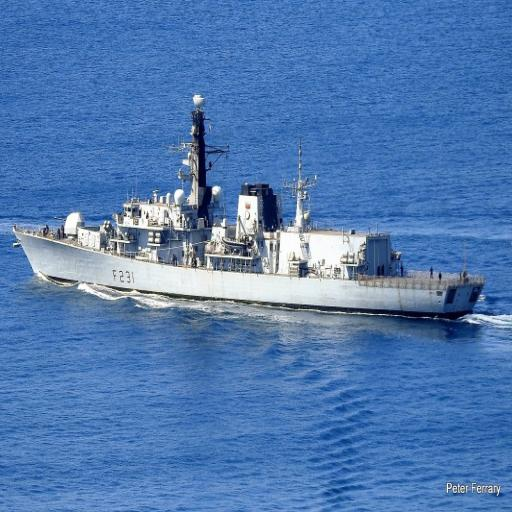Fragata: (13, 80, 487, 323)
